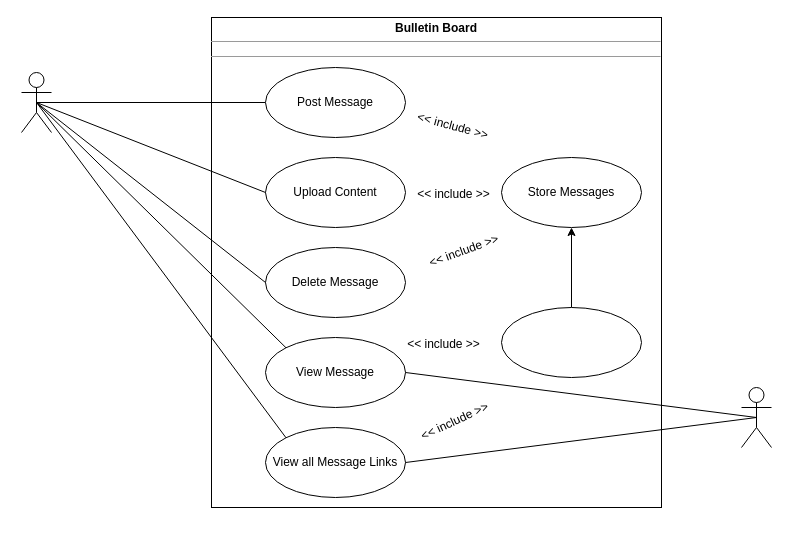
This 794x533 diagram has some shape labels left out. The shapes that lost their labels are listed below. From the top down, each one's centre as x and y in pixels, then its label:
the point at 36,102: Faculty
the point at 571,342: Read Messages
the point at 756,417: Student
